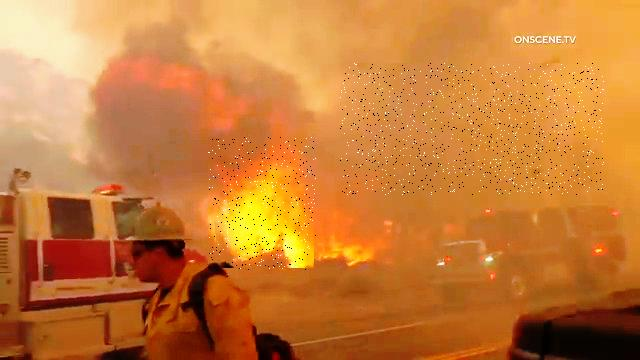fire: (209, 138, 317, 271)
smoke: (341, 64, 605, 196)
